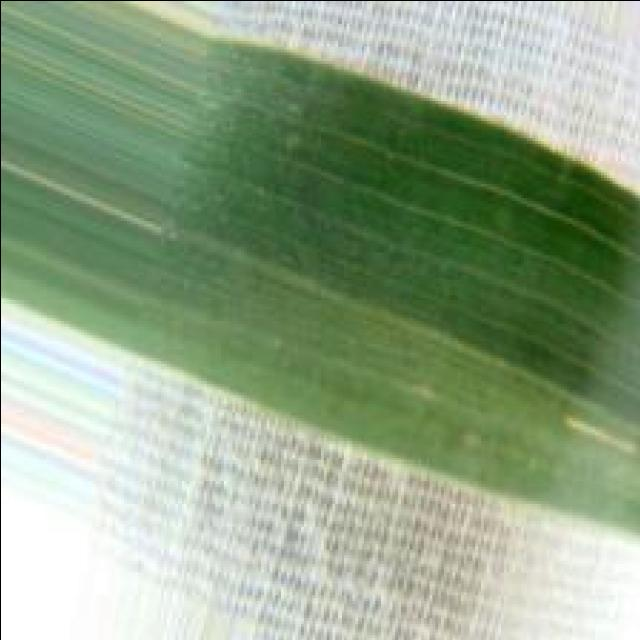Unhealthy: (559, 409, 640, 463)
